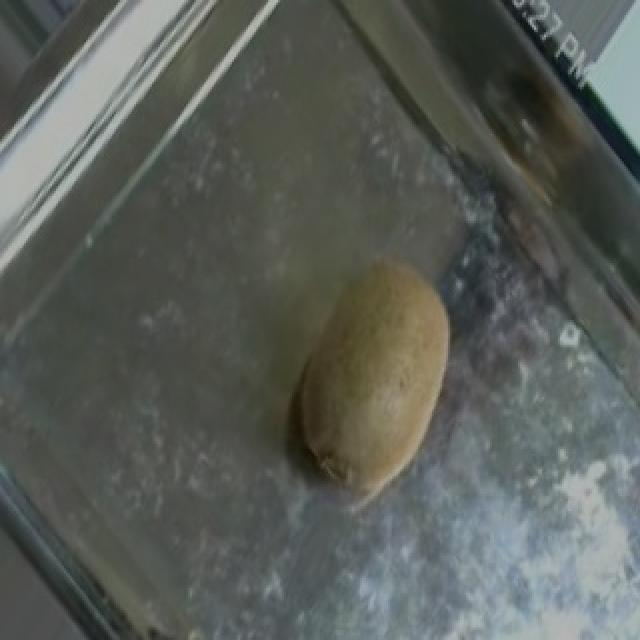Fruit: (262, 218, 494, 521)
